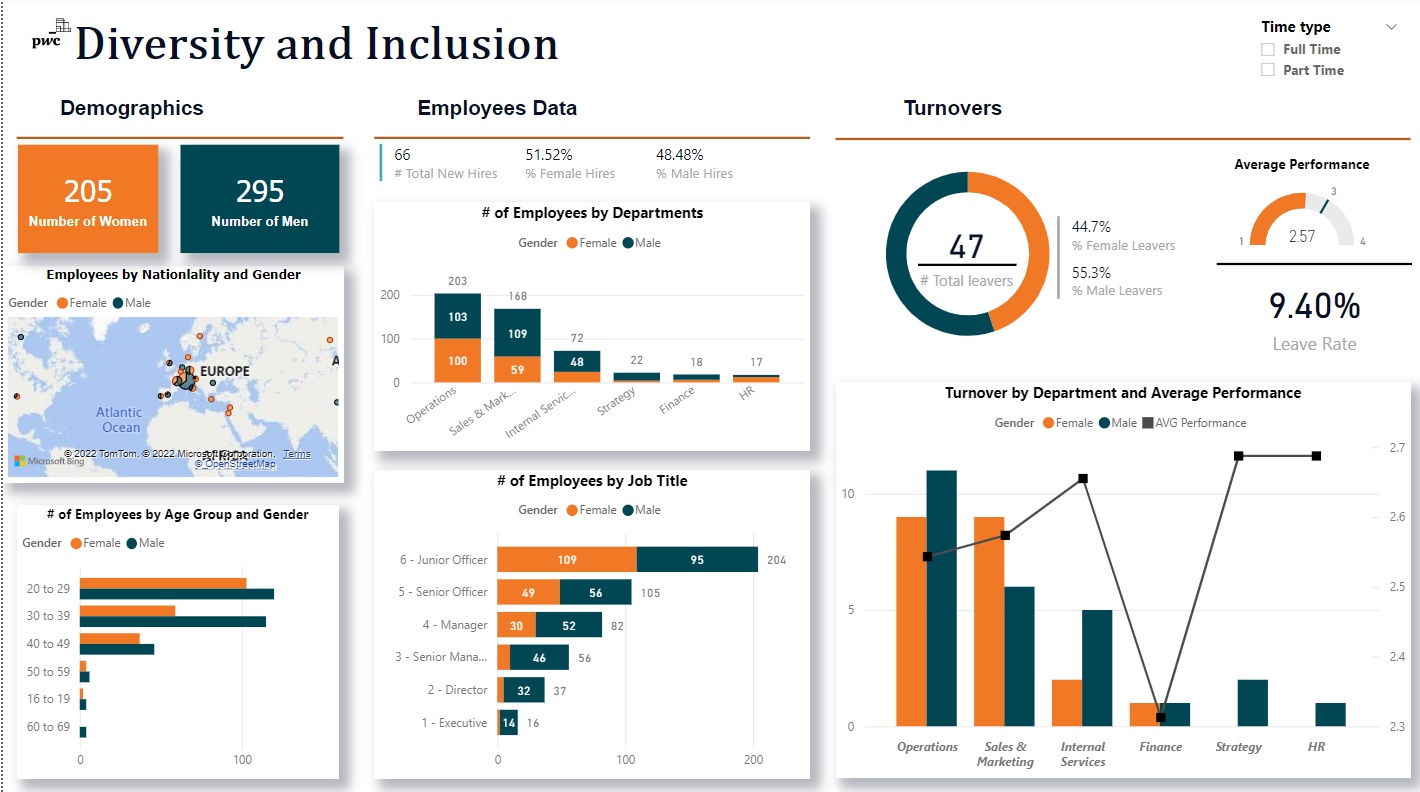

The dashboard page shown, as its layout file describes it:
{"tool":"powerbi","page":{"name":"1st Report","canvas":[1280,720],"ordinal":0},"visuals":[{"type":"card","fields":{"Values":["CountNonNull(Pharma Group AG.Gender)"]},"box":[13,134.1,126.3,97.7],"z":0},{"type":"card","fields":{"Values":["CountNonNull(Pharma Group AG.Gender)"]},"box":[160.2,134.1,143.2,97.7],"z":1000},{"type":"shape","box":[12.9,112.9,294.3,30],"z":2000},{"type":"textbox","box":[43.7,16,477.6,65.5],"z":3000},{"type":"image","box":[0,0,87.5,67.5],"z":4000},{"type":"textbox","box":[30,85.7,171.4,34.3],"z":5000},{"type":"map","title":"Employees by Nationlality and Gender","fields":{"Size":["CountNonNull(Pharma Group AG.Employee ID)"],"Series":["Pharma Group AG.Gender"],"Category":["Pharma Group AG.Nationality 1"]},"box":[0,243.5,307.3,195.3],"z":6000},{"type":"clusteredBarChart","title":" # of Employees by Age Group and Gender","fields":{"Category":["Pharma Group AG.Age group"],"Y":["CountNonNull(Pharma Group AG.Employee ID)"],"Series":["Pharma Group AG.Gender"]},"box":[12.9,458.6,290,247.1],"z":7000},{"type":"shape","box":[334.3,112.9,392.9,30],"z":8000},{"type":"textbox","box":[352.9,85.7,185.7,32.9],"z":9000},{"type":"multiRowCard","fields":{"Values":["Pharma Group AG.# Total Hires","Pharma Group AG.% Female Hires","Pharma Group AG.% Male Hires"]},"box":[334.3,128.6,377.1,57.1],"z":10000},{"type":"columnChart","title":"# of Employees by Departments","fields":{"Category":["Pharma Group AG.Department @01.07.2020"],"Y":["CountNonNull(Pharma Group AG.Employee ID)"],"Series":["Pharma Group AG.Gender"]},"box":[334.3,185.7,392.9,224.3],"z":11000},{"type":"textbox","box":[775.7,85.7,161.4,32.9],"z":12000},{"type":"shape","box":[750,121.4,518.6,14.3],"z":13000},{"type":"barChart","title":"# of Employees by Job Title ","fields":{"Category":["Pharma Group AG.Job Level after FY20 promotions"],"Y":["CountNonNull(Pharma Group AG.Employee ID)"],"Series":["Pharma Group AG.Gender"]},"box":[334.3,427.1,392.9,278.6],"z":14000},{"type":"donutChart","fields":{"Y":["Pharma Group AG.# Female leavers","Pharma Group AG.# Male Leavers"]},"box":[750,135.7,238.6,194.3],"z":15000},{"type":"card","fields":{"Values":["Pharma Group AG.# Total leavers"]},"box":[810,171.4,117.1,121.4],"z":16000},{"type":"shape","box":[824.3,234.3,88.6,15.7],"z":17000},{"type":"multiRowCard","fields":{"Values":["Pharma Group AG.% Female Leavers","Pharma Group AG.% Male Leavers"]},"box":[945.7,194.3,128.6,97.1],"z":18000},{"type":"card","fields":{"Values":["Pharma Group AG.LEAVE %"]},"box":[1111.4,248.6,142.9,75.7],"z":19000},{"type":"gauge","title":"Average Performance","fields":{"Y":["Avg(Pharma Group AG.FY19 Performance Rating)"],"MinValue":["Min(Pharma Group AG.FY19 Performance Rating)"],"MaxValue":["Max(Pharma Group AG.FY19 Performance Rating)1"],"TargetValue":["Median(Pharma Group AG.FY19 Performance Rating)"]},"box":[1074.3,142.9,194.3,91.4],"z":20000},{"type":"shape","box":[1094.3,234.3,175.7,14.3],"z":21000},{"type":"lineClusteredColumnComboChart","title":"Turnover by Department and Average Performance","fields":{"Category":["Pharma Group AG.Department @01.07.2020"],"Series":["Pharma Group AG.Gender"],"Y":["Pharma Group AG.# Total leavers"],"Y2":["Avg(Pharma Group AG.FY19 Performance Rating)"]},"box":[750,348.6,518.6,357.1],"z":22000},{"type":"slicer","fields":{"Values":["Pharma Group AG.Time type"]},"box":[1121.1,13,148.4,70.3],"z":23000}]}

Visuals, with their boxes in screenshot pixels (x1, y1, x2, y2), scaled from the page's 1280x720 canvas onto the 1420x792 screenshot:
card - CountNonNull(Pharma Group AG.Gender): bbox=(14, 148, 155, 255)
card - CountNonNull(Pharma Group AG.Gender): bbox=(178, 148, 337, 255)
shape: bbox=(14, 124, 341, 157)
textbox: bbox=(48, 18, 578, 90)
image: bbox=(0, 0, 97, 74)
textbox: bbox=(33, 94, 223, 132)
"Employees by Nationlality and Gender" map: bbox=(0, 268, 341, 483)
" # of Employees by Age Group and Gender" clusteredBarChart: bbox=(14, 504, 336, 776)
shape: bbox=(371, 124, 807, 157)
textbox: bbox=(391, 94, 598, 130)
multiRowCard - Pharma Group AG.# Total Hires x Pharma Group AG.% Female Hires: bbox=(371, 141, 789, 204)
"# of Employees by Departments" columnChart: bbox=(371, 204, 807, 451)
textbox: bbox=(861, 94, 1040, 130)
shape: bbox=(832, 134, 1407, 149)
"# of Employees by Job Title " barChart: bbox=(371, 470, 807, 776)
donutChart - Pharma Group AG.# Female leavers x Pharma Group AG.# Male Leavers: bbox=(832, 149, 1097, 363)
card - Pharma Group AG.# Total leavers: bbox=(899, 189, 1029, 322)
shape: bbox=(914, 258, 1013, 275)
multiRowCard - Pharma Group AG.% Female Leavers x Pharma Group AG.% Male Leavers: bbox=(1049, 214, 1192, 321)
card - Pharma Group AG.LEAVE %: bbox=(1233, 273, 1391, 357)
"Average Performance" gauge: bbox=(1192, 157, 1407, 258)
shape: bbox=(1214, 258, 1409, 273)
"Turnover by Department and Average Performance" lineClusteredColumnComboChart: bbox=(832, 383, 1407, 776)
slicer - Pharma Group AG.Time type: bbox=(1244, 14, 1408, 92)
